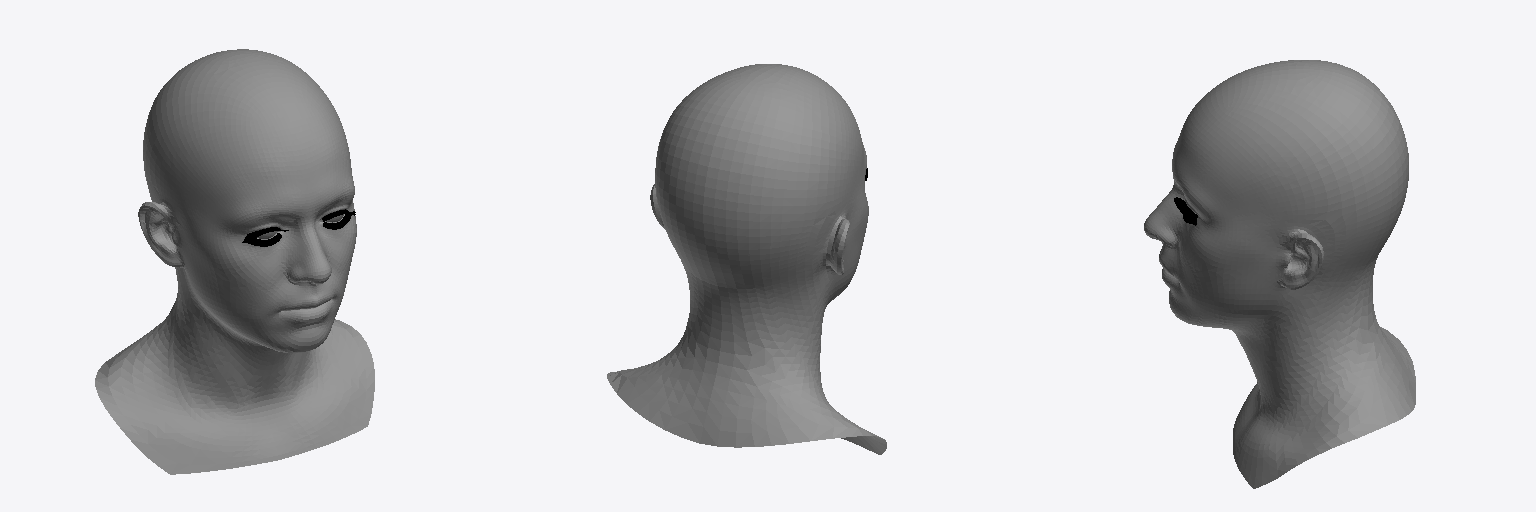
File: generic_neutral_mesh.obj
The picture shows the model from 3 angles: view 1: azimuth 30°, elevation 25°; view 2: azimuth 150°, elevation 25°; view 3: azimuth 270°, elevation 25°; orthographic projection.
Size of the model in its own units: 24.83 by 33.81 by 22.32.